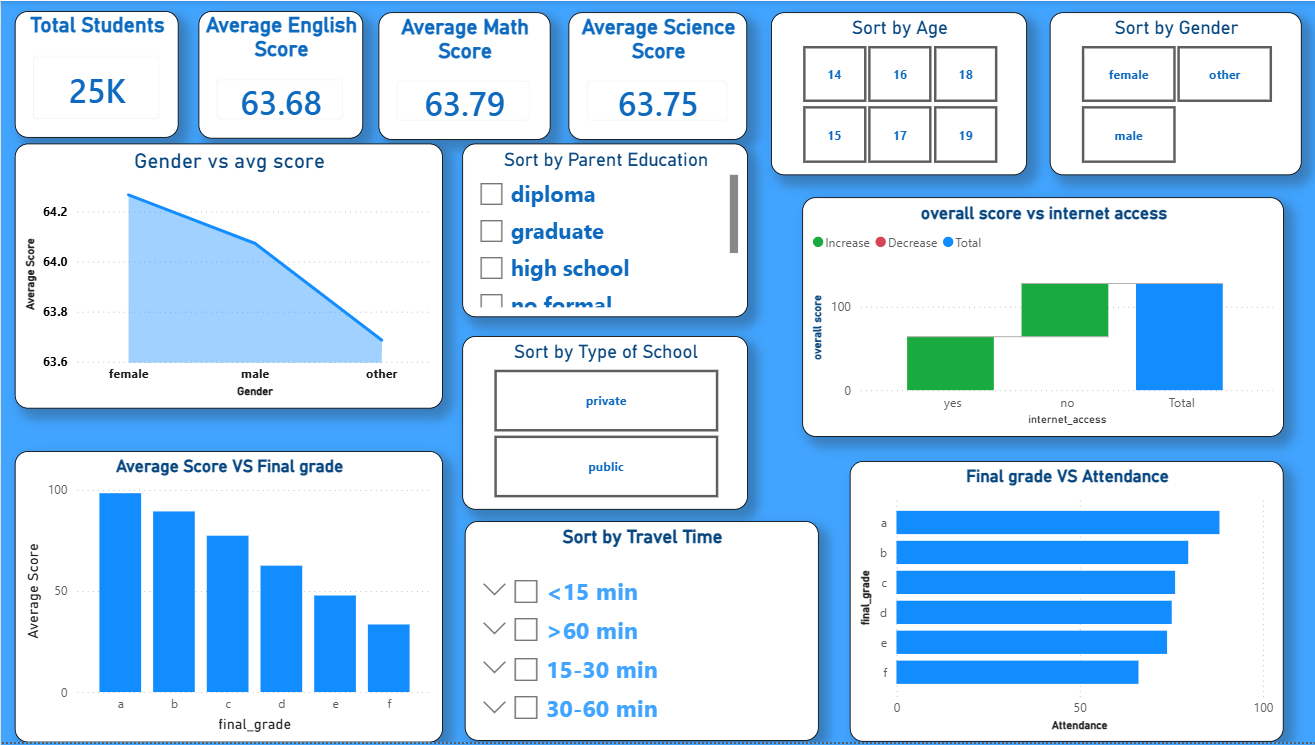

What the dashboard file says about the page in this screenshot:
{"tool":"powerbi","page":{"name":"Page 1","canvas":[1280,720],"ordinal":0},"visuals":[{"type":"cardVisual","title":"Total Students","fields":{"Data":["CountNonNull(Student_Performance.student_id)"]},"box":[13.7,9.6,159.2,123.5],"z":0},{"type":"cardVisual","title":"Average English Score","fields":{"Data":["Avg(Student_Performance.english_score)"]},"box":[191.8,9.7,159.9,123.7],"z":1000},{"type":"cardVisual","title":"Average Math Score","fields":{"Data":["Avg(Student_Performance.math_score)"]},"box":[367,11.1,166.8,123.7],"z":2000},{"type":"cardVisual","title":"Average Science Score","fields":{"Data":["Avg(Student_Performance.science_score)"]},"box":[551.9,11.1,173.8,123.7],"z":3000},{"type":"slicer","title":"Sort by Age","fields":{"Values":["Student_Performance.age"]},"box":[747.9,11.1,248.8,158.5],"z":4000},{"type":"slicer","title":"Sort by Gender","fields":{"Values":["Student_Performance.gender"]},"box":[1018.9,11.1,244.7,158.5],"z":5000},{"type":"slicer","title":"Sort by Type of School","fields":{"Values":["Student_Performance.school_type"]},"box":[448,325.1,277.4,169.1],"z":6000},{"type":"slicer","title":"Sort by Parent Education","fields":{"Values":["Student_Performance.parent_education"]},"box":[448,138.7,277.4,169.1],"z":7000},{"type":"stackedAreaChart","title":"Gender vs avg score","fields":{"Category":["Student_Performance.gender"],"Y":["Avg(Student_Performance.overall_score)"]},"box":[13,138.7,416.2,257.2],"z":8000},{"type":"columnChart","title":"Average Score VS Final grade","fields":{"Y":["Avg(Student_Performance.overall_score)"],"Category":["Student_Performance.final_grade"]},"box":[13.8,436.9,416.2,283.4],"z":9000},{"type":"waterfallChart","title":"overall score vs internet access","fields":{"Category":["Student_Performance.internet_access"],"Y":["Avg(Student_Performance.overall_score)"]},"box":[778.9,190.7,468.2,232.6],"z":9001},{"type":"slicer","title":"Sort by Travel Time","fields":{"Values":["Student_Performance.travel_time","Student_Performance.attendance_percentage"]},"box":[450.8,505.8,343.9,213.9],"z":9002},{"type":"barChart","title":"Final grade VS Attendance","fields":{"Category":["Student_Performance.final_grade"],"Y":["Avg(Student_Performance.attendance_percentage)"]},"box":[825.1,446.5,421.9,273.1],"z":9003}]}

Visuals, with their boxes in screenshot pixels (x1, y1, x2, y2), scaled from the page's 1280x720 canvas onto the 1315x745 screenshot:
"Total Students" cardVisual: detection(14, 10, 178, 138)
"Average English Score" cardVisual: detection(197, 10, 361, 138)
"Average Math Score" cardVisual: detection(377, 11, 548, 139)
"Average Science Score" cardVisual: detection(567, 11, 746, 139)
"Sort by Age" slicer: detection(768, 11, 1024, 175)
"Sort by Gender" slicer: detection(1047, 11, 1298, 175)
"Sort by Type of School" slicer: detection(460, 336, 745, 511)
"Sort by Parent Education" slicer: detection(460, 144, 745, 318)
"Gender vs avg score" stackedAreaChart: detection(13, 144, 441, 410)
"Average Score VS Final grade" columnChart: detection(14, 452, 442, 744)
"overall score vs internet access" waterfallChart: detection(800, 197, 1281, 438)
"Sort by Travel Time" slicer: detection(463, 523, 816, 744)
"Final grade VS Attendance" barChart: detection(848, 462, 1281, 744)
